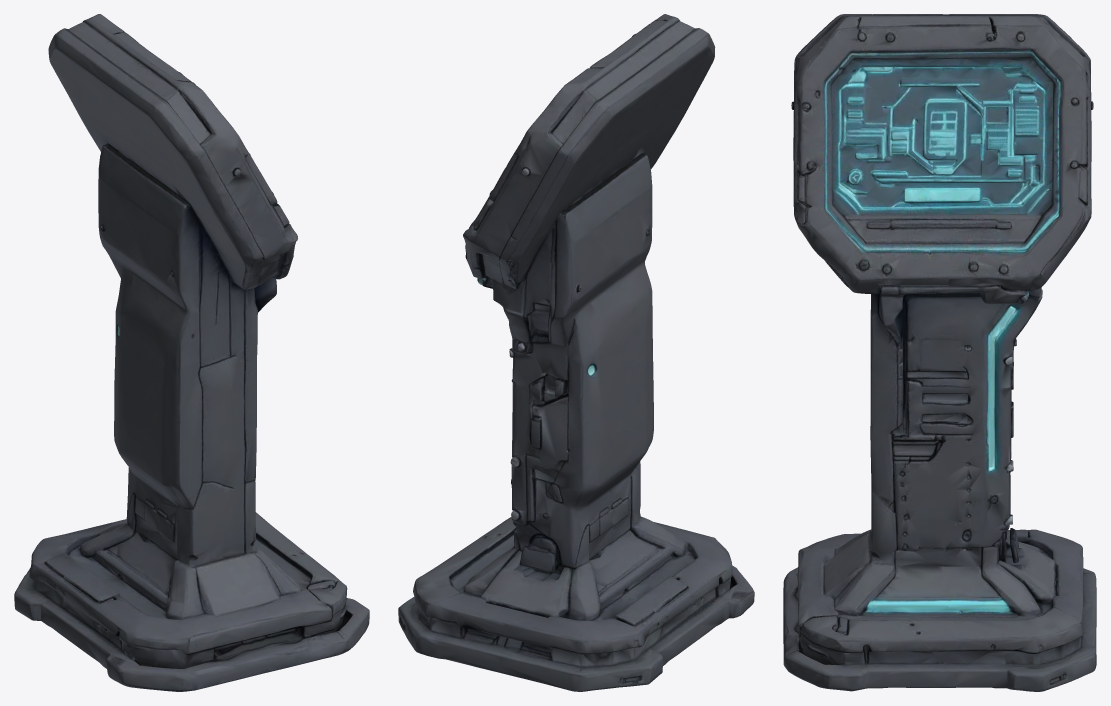
File: bridge-2.glb
3 renders of one model, left to right at view 1: azimuth 30°, elevation 25°; view 2: azimuth 150°, elevation 25°; view 3: azimuth 270°, elevation 25°, orthographic.
Parts seen in each view (by area): view 1: tripo_node_1422c6c8-5cd2-43c4-bf66-9a0c5156ccac; view 2: tripo_node_1422c6c8-5cd2-43c4-bf66-9a0c5156ccac; view 3: tripo_node_1422c6c8-5cd2-43c4-bf66-9a0c5156ccac.
Part boxes in pixels (x1,y1,x2,y2): tripo_node_1422c6c8-5cd2-43c4-bf66-9a0c5156ccac: (14,14,369,691); tripo_node_1422c6c8-5cd2-43c4-bf66-9a0c5156ccac: (398,14,754,691); tripo_node_1422c6c8-5cd2-43c4-bf66-9a0c5156ccac: (783,14,1096,691).
Size of the model in its own units: 0.4558 by 1 by 0.4833.
1 material, 1 textured.
